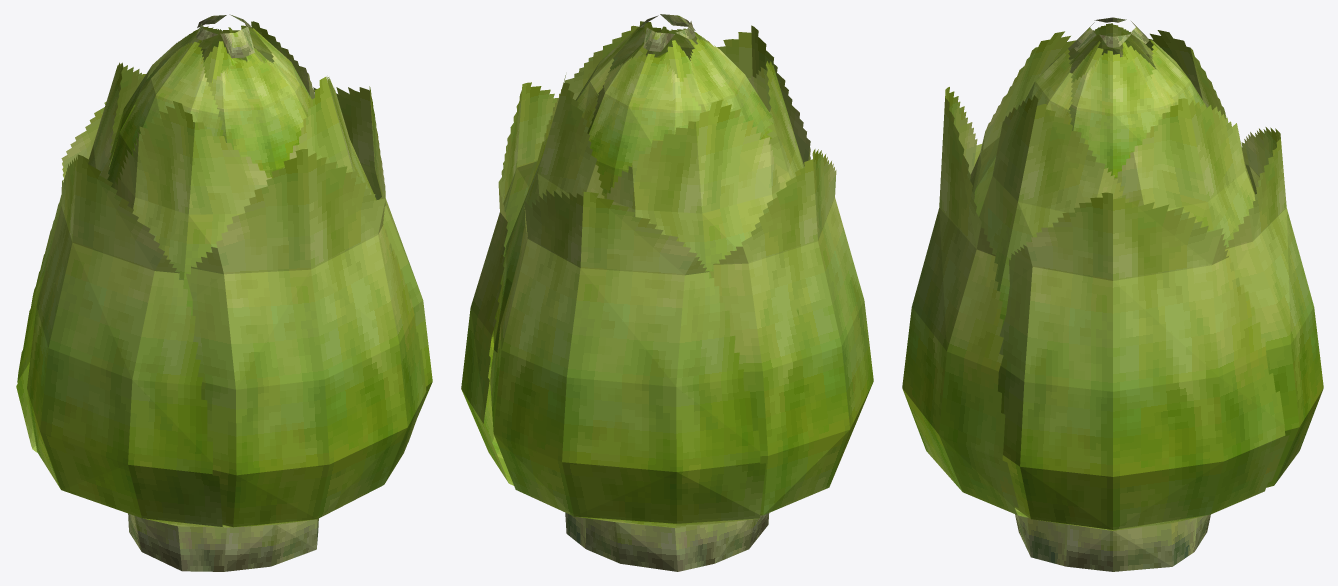
The model's file is donuts_white_s.dae.
3 views of the same model, side by side, from view 1: azimuth 30°, elevation 25°; view 2: azimuth 150°, elevation 25°; view 3: azimuth 270°, elevation 25° (orthographic).
Visible parts, largest first — view 1: m0; view 2: m0; view 3: m0.
Boxes of the visible parts, x1,y1,x2,y2 form: m0: [16, 14, 432, 571]; m0: [461, 14, 873, 571]; m0: [902, 17, 1323, 571].
Bounding box in the file's own units: 30.09 × 39.77 × 30.09.
1 material, 1 textured.
